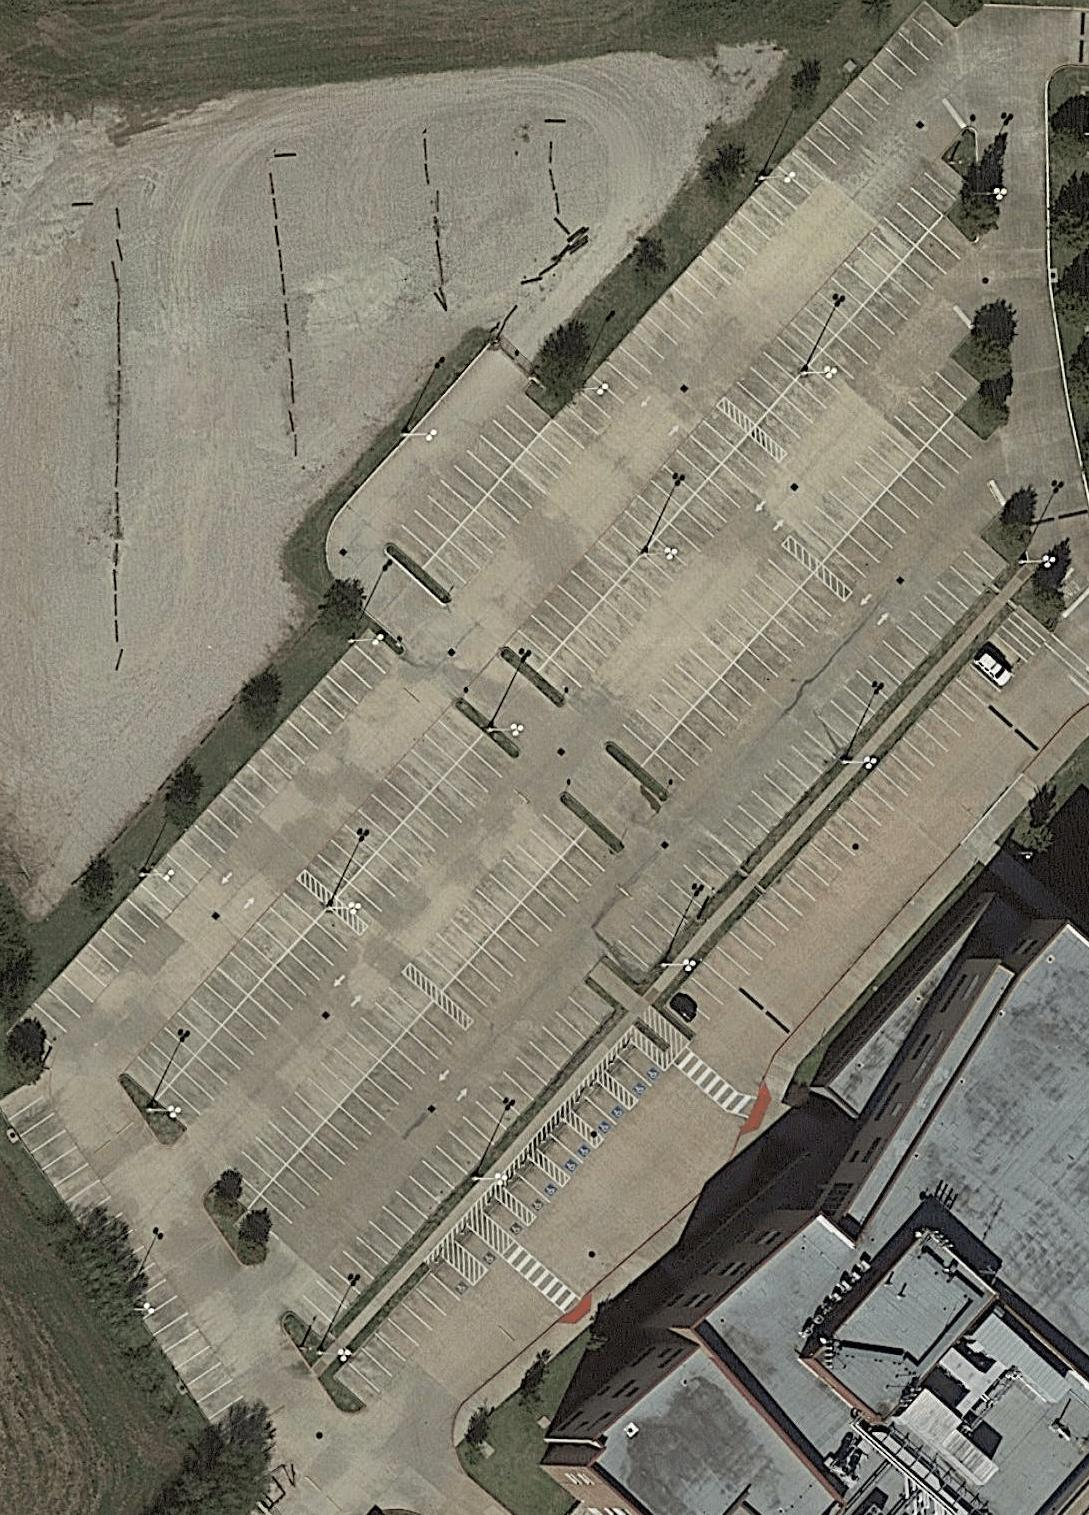parkingspot: (419, 1, 963, 602), (599, 530, 1014, 989), (6, 623, 405, 1067), (661, 641, 1020, 1040), (285, 977, 617, 1342), (0, 1074, 290, 1487), (719, 154, 975, 428), (535, 431, 784, 703), (503, 401, 751, 675), (245, 997, 472, 1241), (755, 212, 978, 459), (214, 968, 437, 1213), (121, 875, 333, 1104), (153, 903, 365, 1132), (607, 541, 817, 770), (639, 570, 849, 797), (786, 353, 986, 568), (300, 701, 487, 902), (334, 729, 520, 930), (407, 793, 592, 994), (440, 825, 622, 1026), (385, 383, 556, 573), (819, 411, 990, 598), (332, 1253, 477, 1410), (604, 1039, 669, 1104), (501, 1155, 566, 1220), (569, 1077, 633, 1142), (536, 1117, 599, 1182), (452, 1222, 505, 1274), (480, 1194, 532, 1243)
